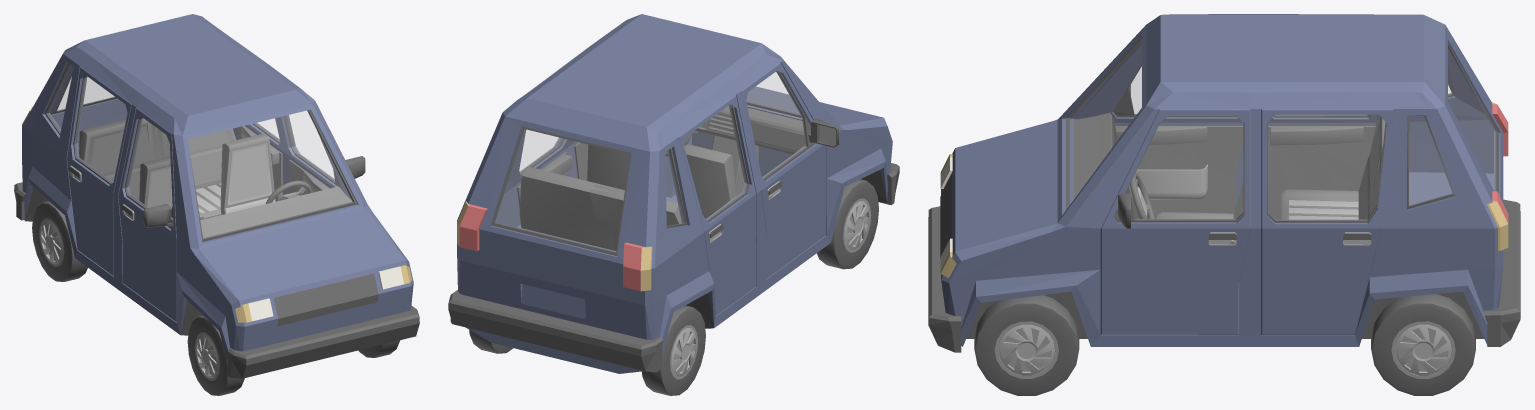
The model's file is low-poly-small-car-ebe7c5.glb.
The picture shows the model from 3 angles, left to right: view 1: azimuth 30°, elevation 25°; view 2: azimuth 150°, elevation 25°; view 3: azimuth 270°, elevation 25°; orthographic projection. The views are drawn at different scales.
Visible parts, largest first — view 1: body, wheel-back-right, wheel-front-right, wheel-front-left; view 2: body, wheel-front-right, wheel-back-right, wheel-back-left; view 3: body, wheel-back-left, wheel-front-left.
Part boxes in pixels (bbox=[...]): body: bbox=[14, 14, 419, 378]; wheel-back-right: bbox=[32, 201, 87, 281]; wheel-front-right: bbox=[187, 315, 244, 395]; wheel-front-left: bbox=[358, 340, 399, 357]; body: bbox=[448, 14, 899, 373]; wheel-front-right: bbox=[817, 179, 878, 269]; wheel-back-right: bbox=[642, 305, 705, 395]; wheel-back-left: bbox=[469, 330, 513, 353]; body: bbox=[928, 14, 1520, 352]; wheel-back-left: bbox=[1371, 294, 1475, 395]; wheel-front-left: bbox=[974, 295, 1079, 395].
Size of the model in its own units: 1.62 by 1.62 by 2.96.
